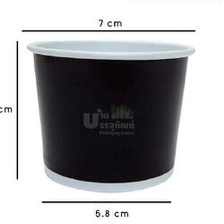paper_cup: (20, 32, 198, 196)
